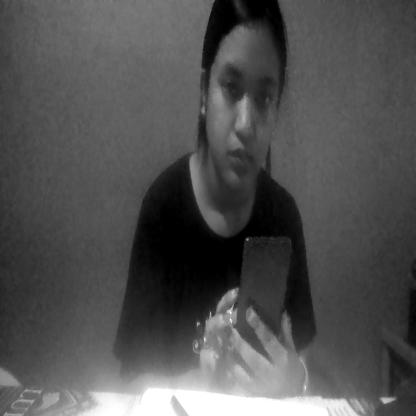Normal: (198, 7, 283, 196)
